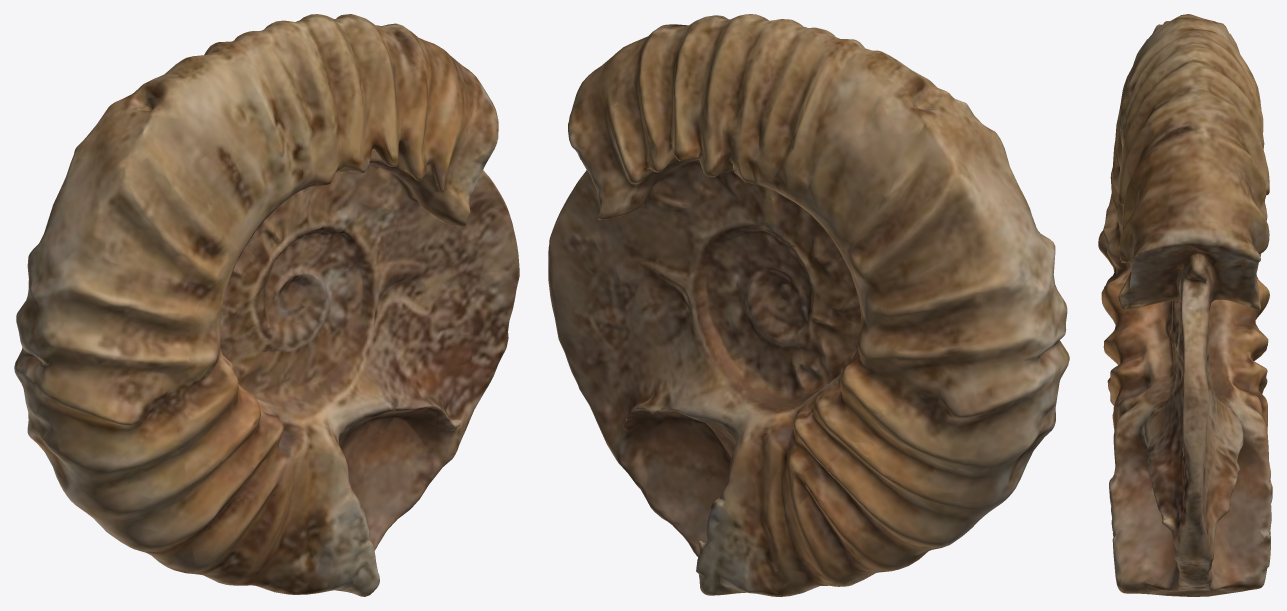
File: ammonite.glb
3 views of the same model, side by side, from view 1: azimuth 30°, elevation 25°; view 2: azimuth 150°, elevation 25°; view 3: azimuth 270°, elevation 25° (orthographic). The views are drawn at different scales.
Visible parts, largest first — view 1: tripo_node_1a32688c-900e-4bb1-854c-8de99d709c41; view 2: tripo_node_1a32688c-900e-4bb1-854c-8de99d709c41; view 3: tripo_node_1a32688c-900e-4bb1-854c-8de99d709c41.
Part boxes in pixels (bbox=[...]): tripo_node_1a32688c-900e-4bb1-854c-8de99d709c41: bbox=[14, 14, 519, 596]; tripo_node_1a32688c-900e-4bb1-854c-8de99d709c41: bbox=[548, 14, 1069, 596]; tripo_node_1a32688c-900e-4bb1-854c-8de99d709c41: bbox=[1098, 14, 1272, 596].
Bounding box in the file's own units: 0.1096 × 0.12 × 0.0355.
1 material, 1 textured.
